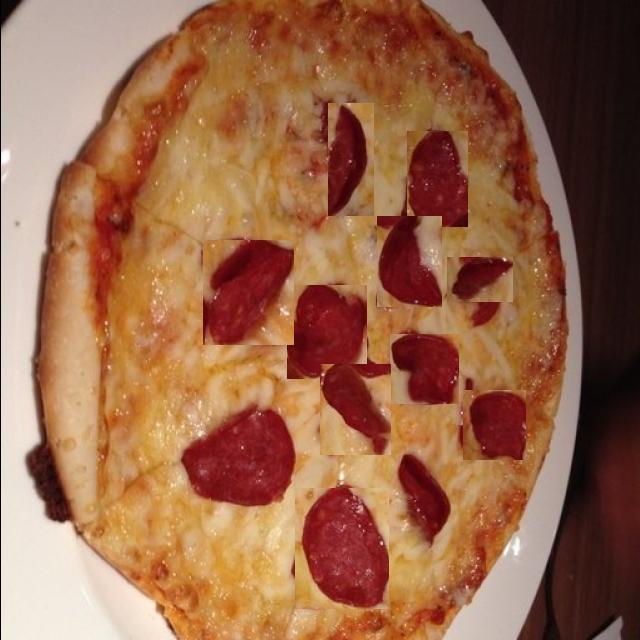pepperoni: (294, 488, 388, 609), (180, 411, 297, 506), (200, 240, 292, 345), (286, 285, 366, 379), (319, 364, 390, 455), (376, 216, 441, 307), (406, 131, 467, 227), (397, 454, 452, 550), (327, 103, 373, 216), (389, 334, 458, 404), (460, 390, 524, 460), (446, 257, 512, 302), (466, 292, 502, 330)
pizza: (33, 0, 566, 639)
